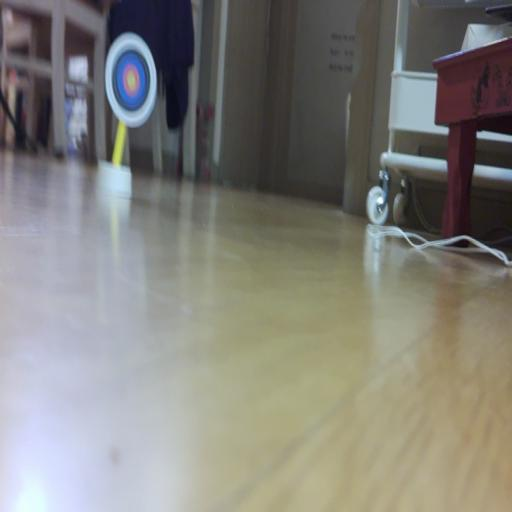target: (105, 33, 158, 127)
